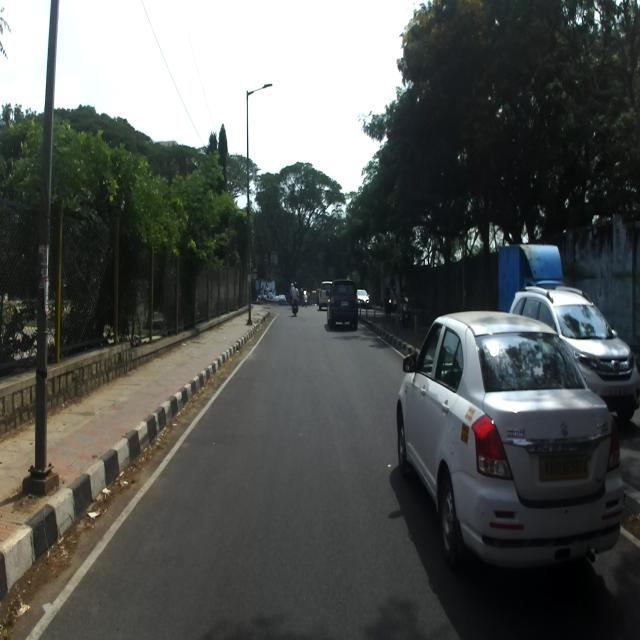car ahead at: (396, 309, 624, 581)
